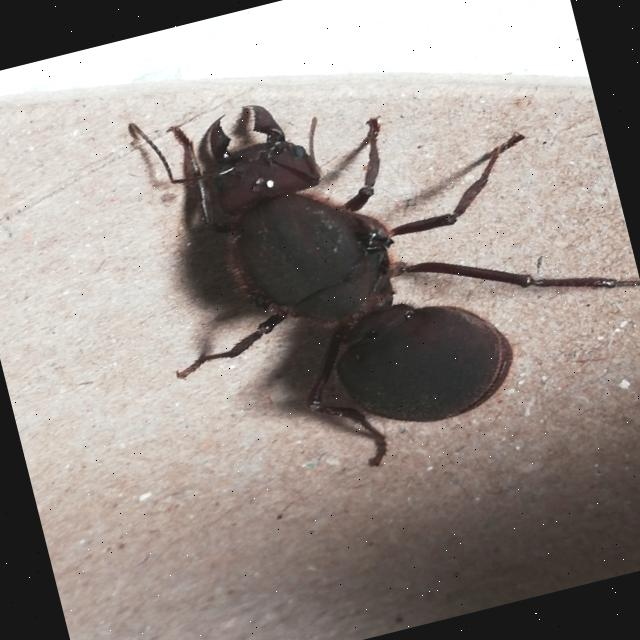Alive-Female-Dealate: (112, 11, 640, 510)
